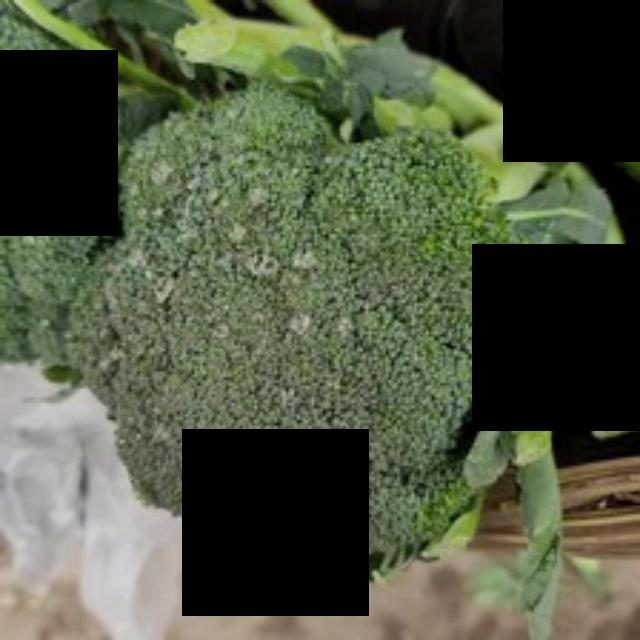broccoli: (49, 76, 520, 568)
